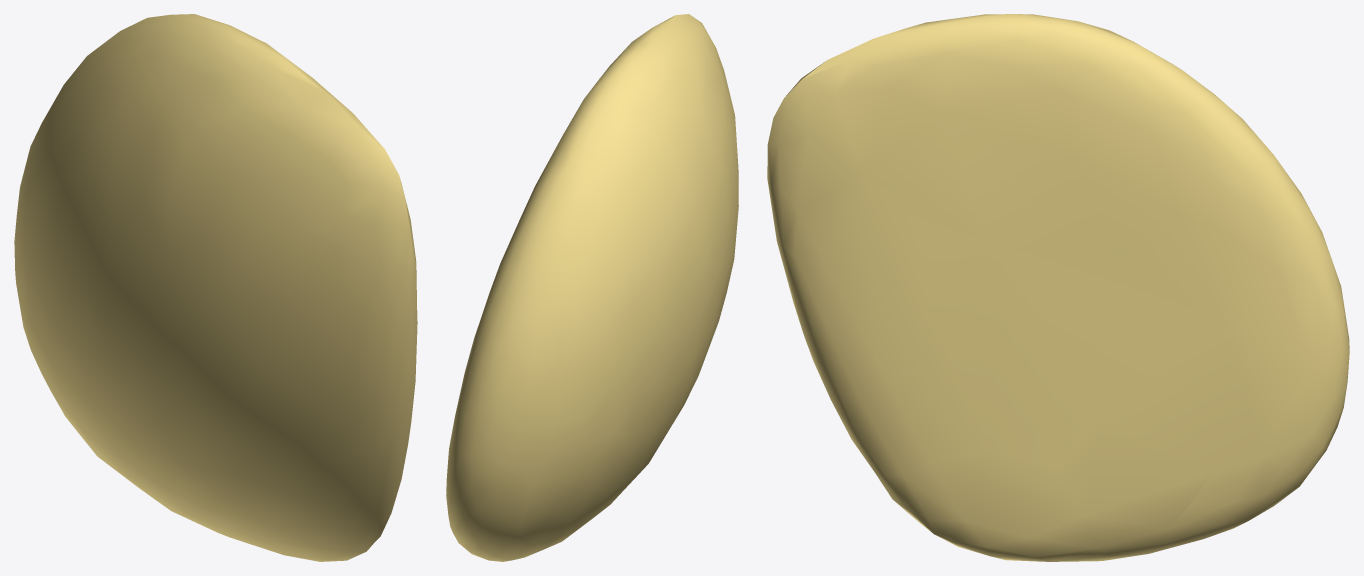
File: fma54622_mm3507m.glb
3 renders of one model, left to right at view 1: azimuth 30°, elevation 25°; view 2: azimuth 150°, elevation 25°; view 3: azimuth 270°, elevation 25°, orthographic. The views are drawn at different scales.
Visible parts, largest first — view 1: FMA54622_MM3507M; view 2: FMA54622_MM3507M; view 3: FMA54622_MM3507M.
Boxes of the visible parts, x1,y1,x2,y2 form: FMA54622_MM3507M: (14,14,417,561); FMA54622_MM3507M: (446,14,738,561); FMA54622_MM3507M: (767,14,1349,561).
Bounding box in the file's own units: 0.00119 × 0.00295 × 0.00305.
